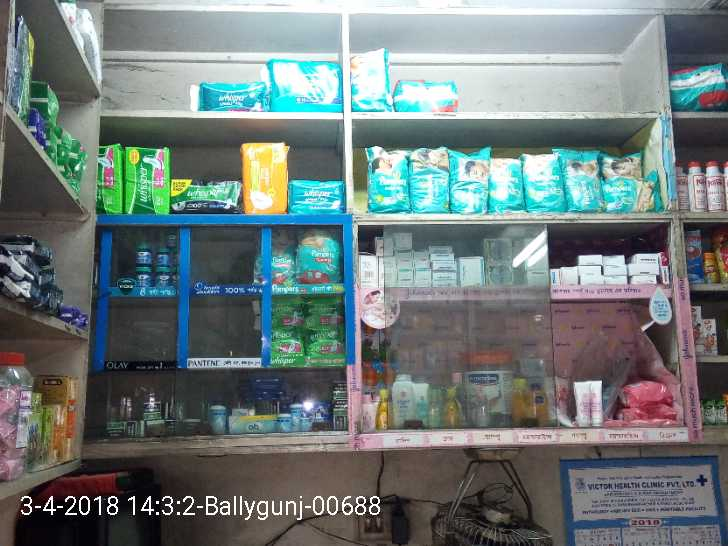vicks: (136, 238, 183, 287)
